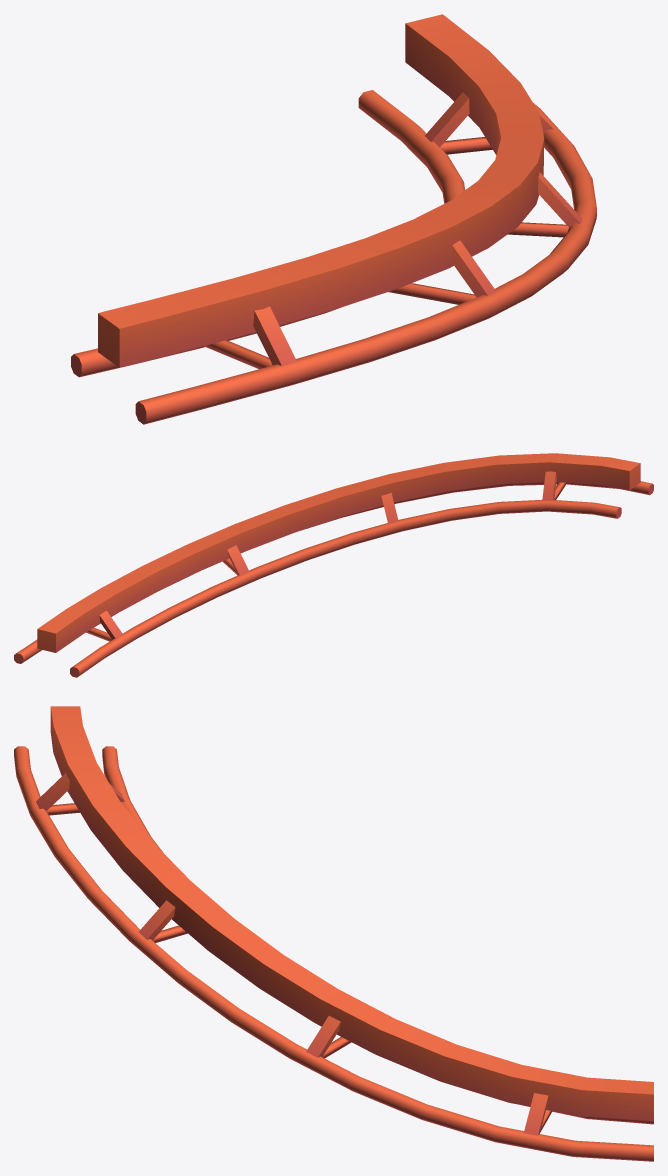
Rendered from kenney-coaster-coaster-hanging-corner-large-ramp.glb.
3 renders of one model, top to bottom at view 1: azimuth 30°, elevation 25°; view 2: azimuth 150°, elevation 25°; view 3: azimuth 270°, elevation 25°, orthographic. The views are drawn at different scales.
Visible parts, largest first — view 1: coaster-hanging-corner-large-ramp; view 2: coaster-hanging-corner-large-ramp; view 3: coaster-hanging-corner-large-ramp.
Part boxes in pixels (x1,y1,x2,y2): coaster-hanging-corner-large-ramp: [71, 14, 596, 424]; coaster-hanging-corner-large-ramp: [14, 453, 653, 677]; coaster-hanging-corner-large-ramp: [14, 706, 653, 1161].
Size of the model in its own units: 4.35 by 1.4 by 4.35.
1 material, 1 textured.
